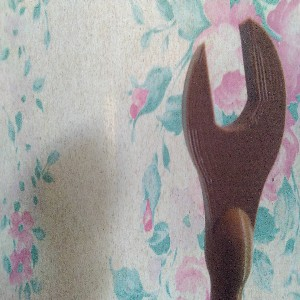spanner: (180, 18, 287, 300)
